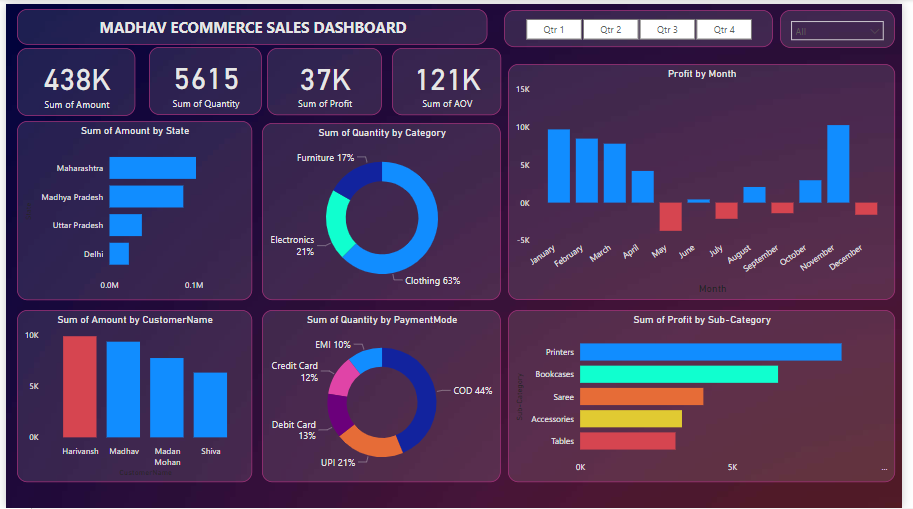

Layout of this report page (visuals, bound fields, positions):
{"tool":"powerbi","page":{"name":"Page 1","canvas":[1280,720],"ordinal":0},"visuals":[{"type":"textbox","box":[15.6,6.7,672.2,51.1],"z":0},{"type":"columnChart","title":"Profit by Month","fields":{"Y":["Details.Profit"],"Category":["Orders.Order Date.Variation.Date Hierarchy.Month"]},"box":[717.2,72.1,553.1,350.8],"z":1000},{"type":"barChart","fields":{"Category":["Details.Sub-Category"],"Y":["Details.Profit"]},"box":[717.1,437.1,552.9,245.7],"z":2000},{"type":"donutChart","fields":{"Category":["Details.Category"],"Y":["Details.Quantity"]},"box":[365.7,170,341.4,252.9],"z":3000},{"type":"donutChart","fields":{"Category":["Details.PaymentMode"],"Y":["Details.Quantity"]},"box":[365.7,437.1,341.4,245.7],"z":4000},{"type":"card","fields":{"Values":["Details.Amount"]},"box":[15.7,62.9,168.6,97.1],"z":5000},{"type":"card","fields":{"Values":["Details.Quantity"]},"box":[204.3,61.4,161.4,97.1],"z":6000},{"type":"card","fields":{"Values":["Details.Profit"]},"box":[372.9,62.9,164.3,95.7],"z":7000},{"type":"card","fields":{"Values":["Details.AOV"]},"box":[551.4,62.9,155.7,95.7],"z":8000},{"type":"barChart","fields":{"Category":["Orders.State"],"Y":["Details.Amount"]},"box":[15.7,167.1,335.7,255.7],"z":9000},{"type":"columnChart","fields":{"Y":["Details.Amount"],"Category":["Orders.CustomerName"]},"box":[15.7,437.1,335.7,245.7],"z":10000},{"type":"slicer","fields":{"Values":["Orders.Order Date.Variation.Date Hierarchy.Quarter"]},"box":[711.4,8.6,384.3,52.9],"z":11000},{"type":"slicer","fields":{"Values":["Orders.State"]},"box":[1105.7,8.6,164.3,54.3],"z":12000}]}

Visuals, with their boxes in screenshot pixels (x1, y1, x2, y2), scaled from the page's 1280x720 canvas onto the 913x509 screenshot:
textbox: bbox=(11, 5, 491, 41)
"Profit by Month" columnChart: bbox=(512, 51, 906, 299)
barChart - Details.Sub-Category x Details.Profit: bbox=(511, 309, 906, 483)
donutChart - Details.Category x Details.Quantity: bbox=(261, 120, 504, 299)
donutChart - Details.PaymentMode x Details.Quantity: bbox=(261, 309, 504, 483)
card - Details.Amount: bbox=(11, 44, 131, 113)
card - Details.Quantity: bbox=(146, 43, 261, 112)
card - Details.Profit: bbox=(266, 44, 383, 112)
card - Details.AOV: bbox=(393, 44, 504, 112)
barChart - Orders.State x Details.Amount: bbox=(11, 118, 251, 299)
columnChart - Details.Amount x Orders.CustomerName: bbox=(11, 309, 251, 483)
slicer - Orders.Order Date.Variation.Date Hierarchy.Quarter: bbox=(507, 6, 782, 43)
slicer - Orders.State: bbox=(789, 6, 906, 44)
